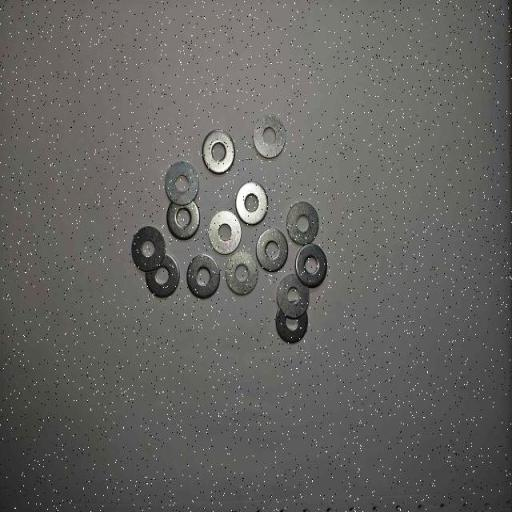washer: (131, 226, 166, 271), (164, 161, 199, 205), (208, 210, 242, 255), (186, 254, 220, 299), (225, 248, 258, 294), (277, 273, 310, 319), (145, 254, 180, 297), (253, 114, 286, 159), (202, 129, 235, 174), (295, 243, 328, 288), (235, 181, 268, 225), (256, 228, 289, 272), (286, 202, 320, 244), (166, 200, 200, 241), (275, 307, 308, 345)
